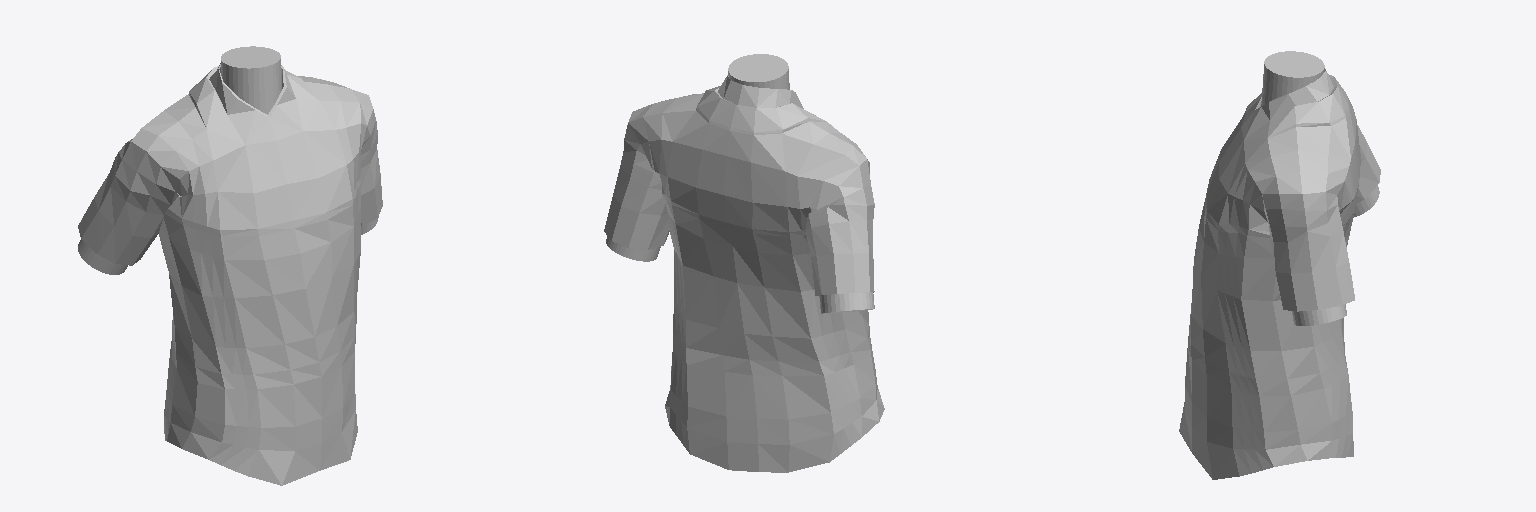
3 views of the same model, side by side, from view 1: azimuth 30°, elevation 25°; view 2: azimuth 150°, elevation 25°; view 3: azimuth 270°, elevation 25° (orthographic).
Parts seen in each view (by area): view 1: male01:mesh1_002_mesh1_geometry_male_02_1noCullingID_male_02_1no, group3 group2 pasted__pCylinder1, group3 group2 pCylinder1; view 2: male01:mesh1_002_mesh1_geometry_male_02_1noCullingID_male_02_1no, group3 group2 pasted__pCylinder1, group3 group2 pCylinder1, group3 group2 pasted__pasted__pCylinder1; view 3: male01:mesh1_002_mesh1_geometry_male_02_1noCullingID_male_02_1no, group3 group2 pasted__pCylinder1, group3 group2 pasted__pasted__pCylinder1.
Boxes of the visible parts, x1,y1,x2,y2 form: male01:mesh1_002_mesh1_geometry_male_02_1noCullingID_male_02_1no: [78, 63, 382, 485]; group3 group2 pasted__pCylinder1: [221, 46, 281, 114]; group3 group2 pCylinder1: [78, 239, 127, 274]; male01:mesh1_002_mesh1_geometry_male_02_1noCullingID_male_02_1no: [604, 75, 884, 472]; group3 group2 pasted__pCylinder1: [728, 54, 789, 89]; group3 group2 pCylinder1: [819, 292, 874, 313]; group3 group2 pasted__pasted__pCylinder1: [606, 236, 660, 261]; male01:mesh1_002_mesh1_geometry_male_02_1noCullingID_male_02_1no: [1179, 69, 1380, 479]; group3 group2 pasted__pCylinder1: [1261, 51, 1324, 105]; group3 group2 pasted__pasted__pCylinder1: [1292, 304, 1346, 325].
Bounding box in the file's own units: 17.22 × 22.98 × 10.81.